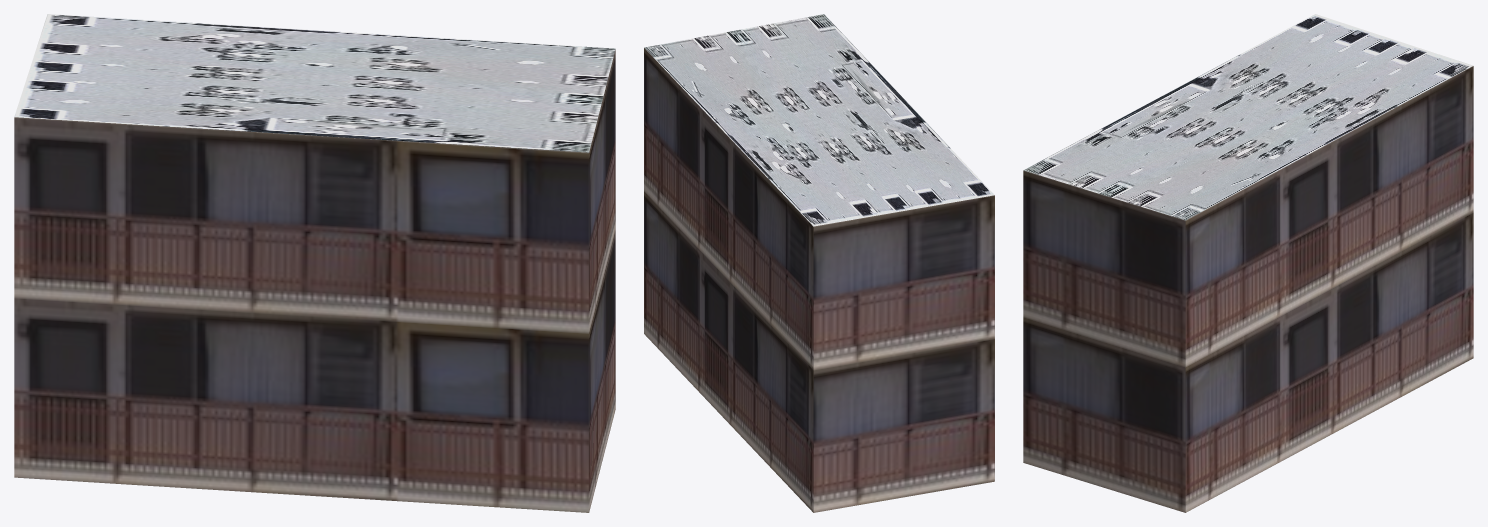
The model's file is ResTex__1957.fbx.
3 renders of one model, left to right at view 1: azimuth 30°, elevation 25°; view 2: azimuth 150°, elevation 25°; view 3: azimuth 270°, elevation 25°, orthographic. The views are drawn at different scales.
Visible parts, largest first — view 1: CityEngineMaterial_6_m, CityEngineMaterial_m; view 2: CityEngineMaterial_6_m, CityEngineMaterial_m; view 3: CityEngineMaterial_6_m, CityEngineMaterial_m.
Part boxes in pixels (x1=…): CityEngineMaterial_6_m: x1=14, y1=50, x2=615, y2=512; CityEngineMaterial_m: x1=14, y1=14, x2=615, y2=152; CityEngineMaterial_6_m: x1=644, y1=48, x2=994, y2=512; CityEngineMaterial_m: x1=644, y1=14, x2=994, y2=226; CityEngineMaterial_6_m: x1=1023, y1=66, x2=1473, y2=512; CityEngineMaterial_m: x1=1023, y1=14, x2=1473, y2=220.
Size of the model in its own units: 9.09 by 6 by 8.37.
2 materials, 2 textured.
